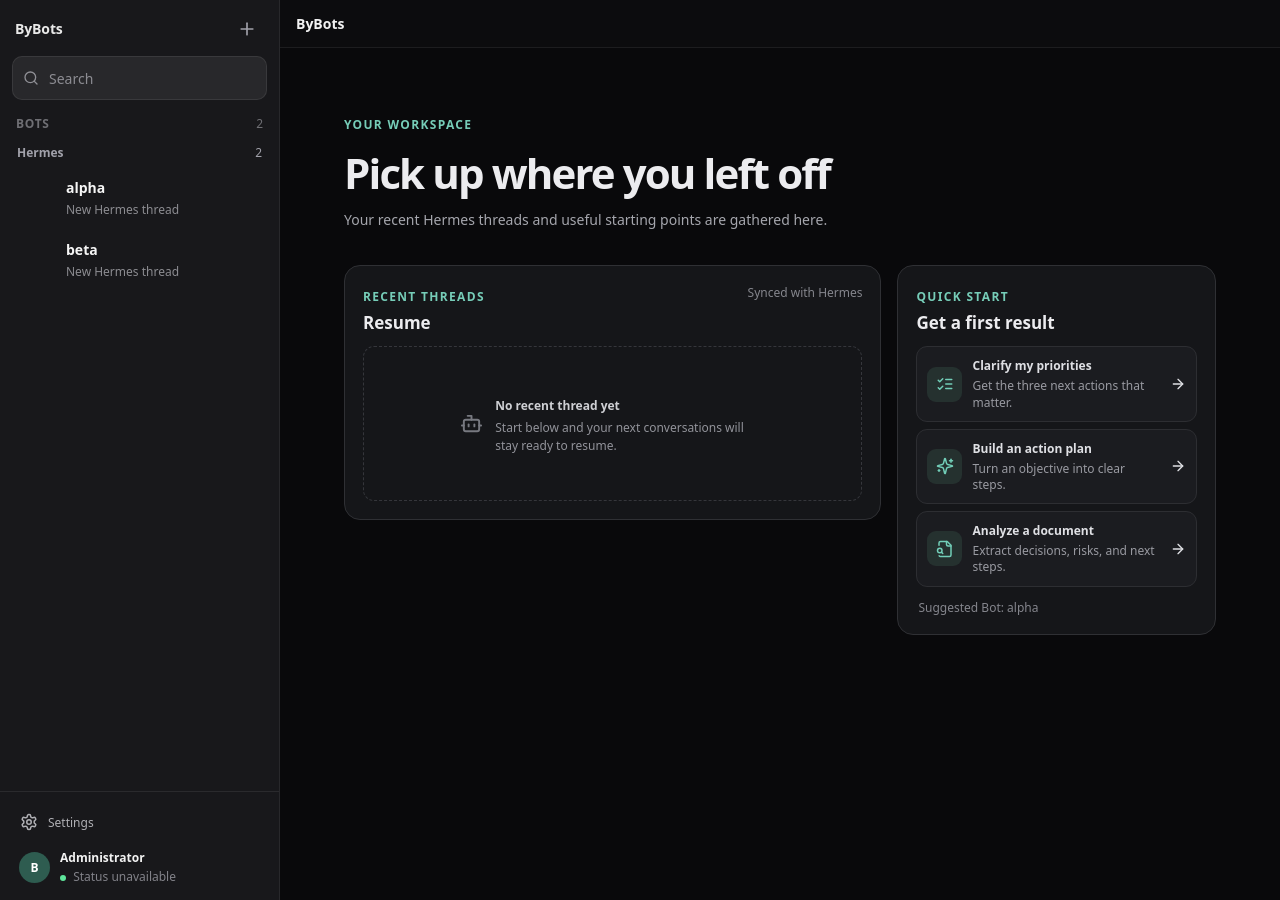
Test: conversation request ownership › keeps the selected bot history when an earlier bot send finishes
Click the button "alpha New Hermes thread": {"x": 140, "y": 198} [8, 167, 271, 229]
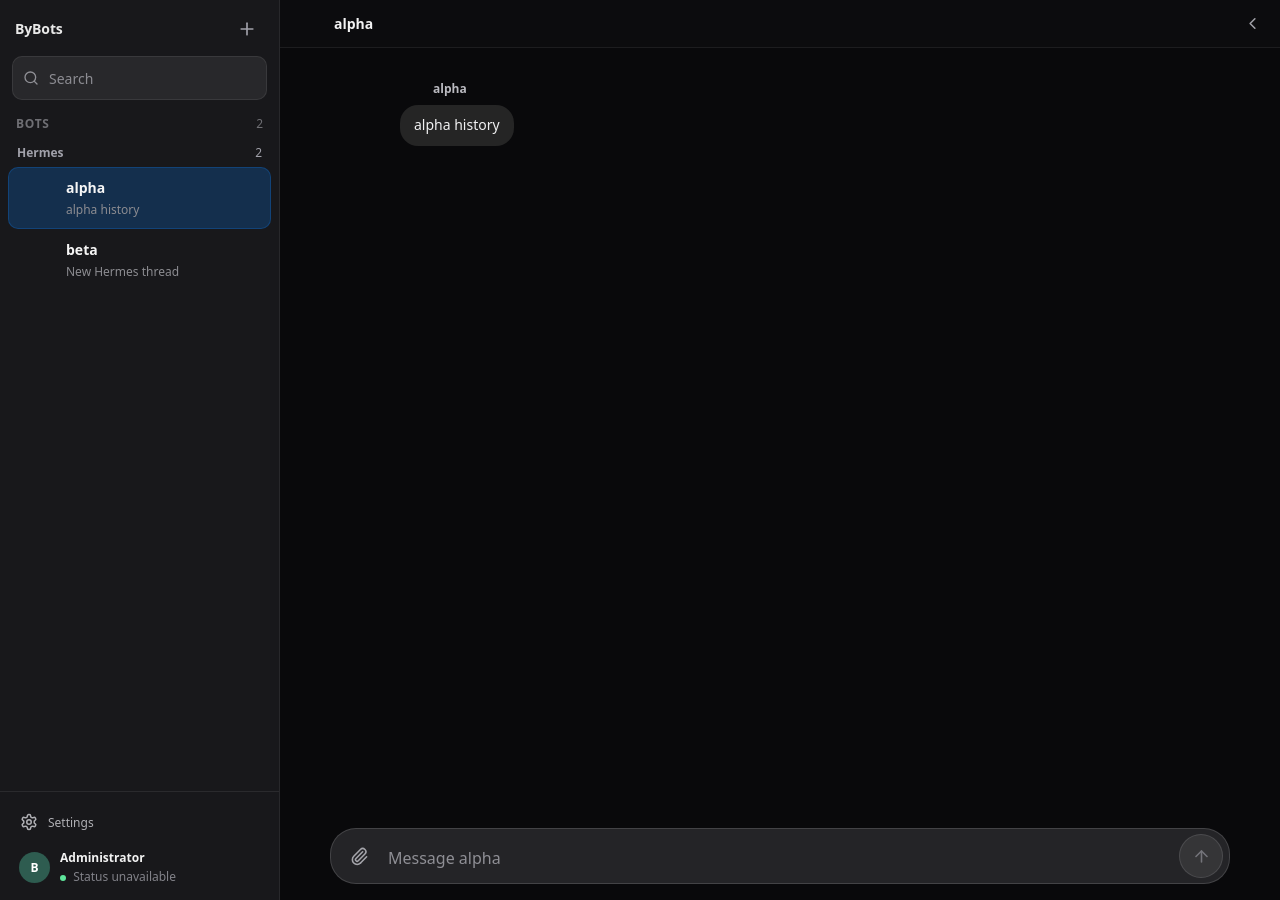
In the text box labelled "Message": {"x": 780, "y": 857} [384, 836, 1176, 878], type "First request"
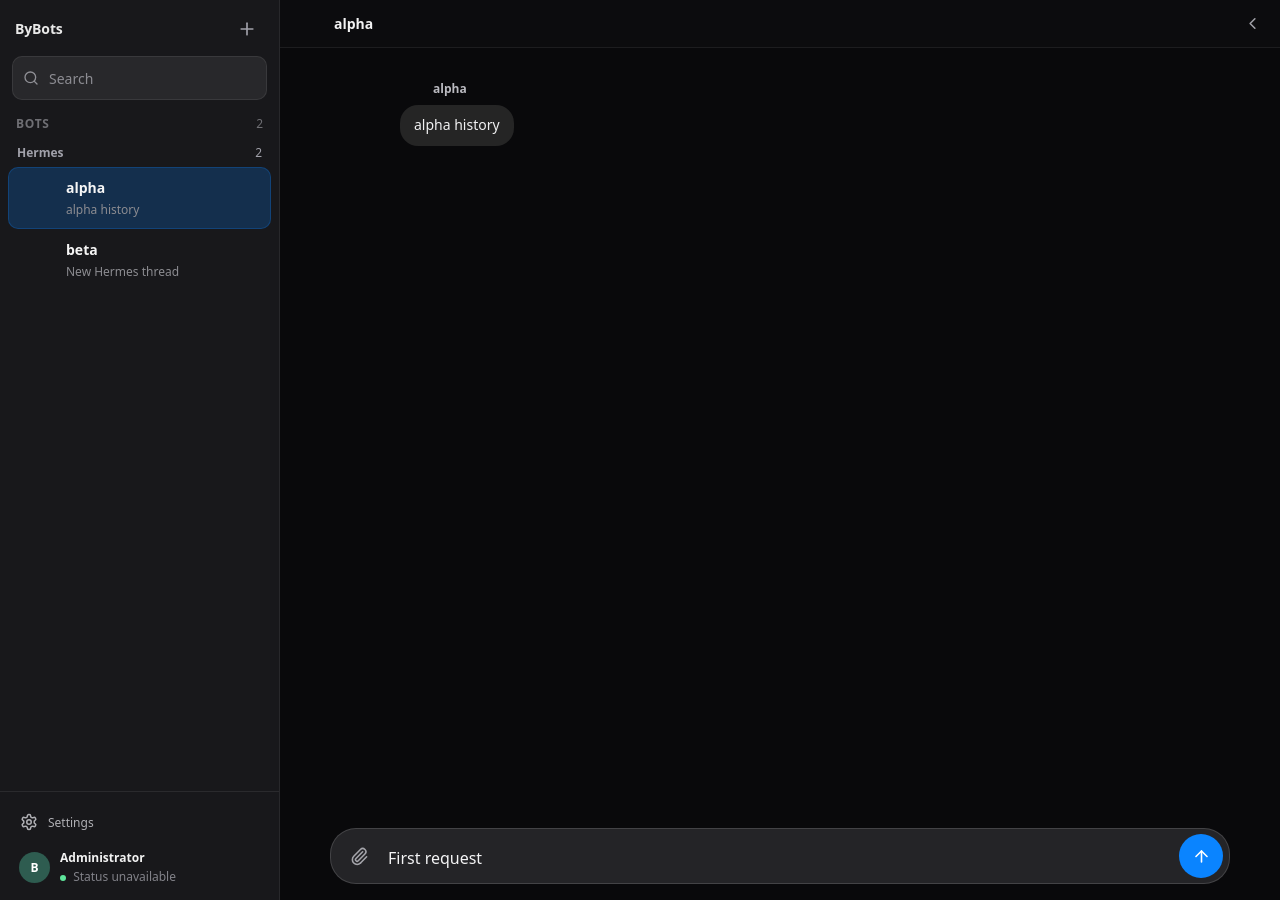
Click the button named "Send": {"x": 1201, "y": 856} [1179, 834, 1223, 878]
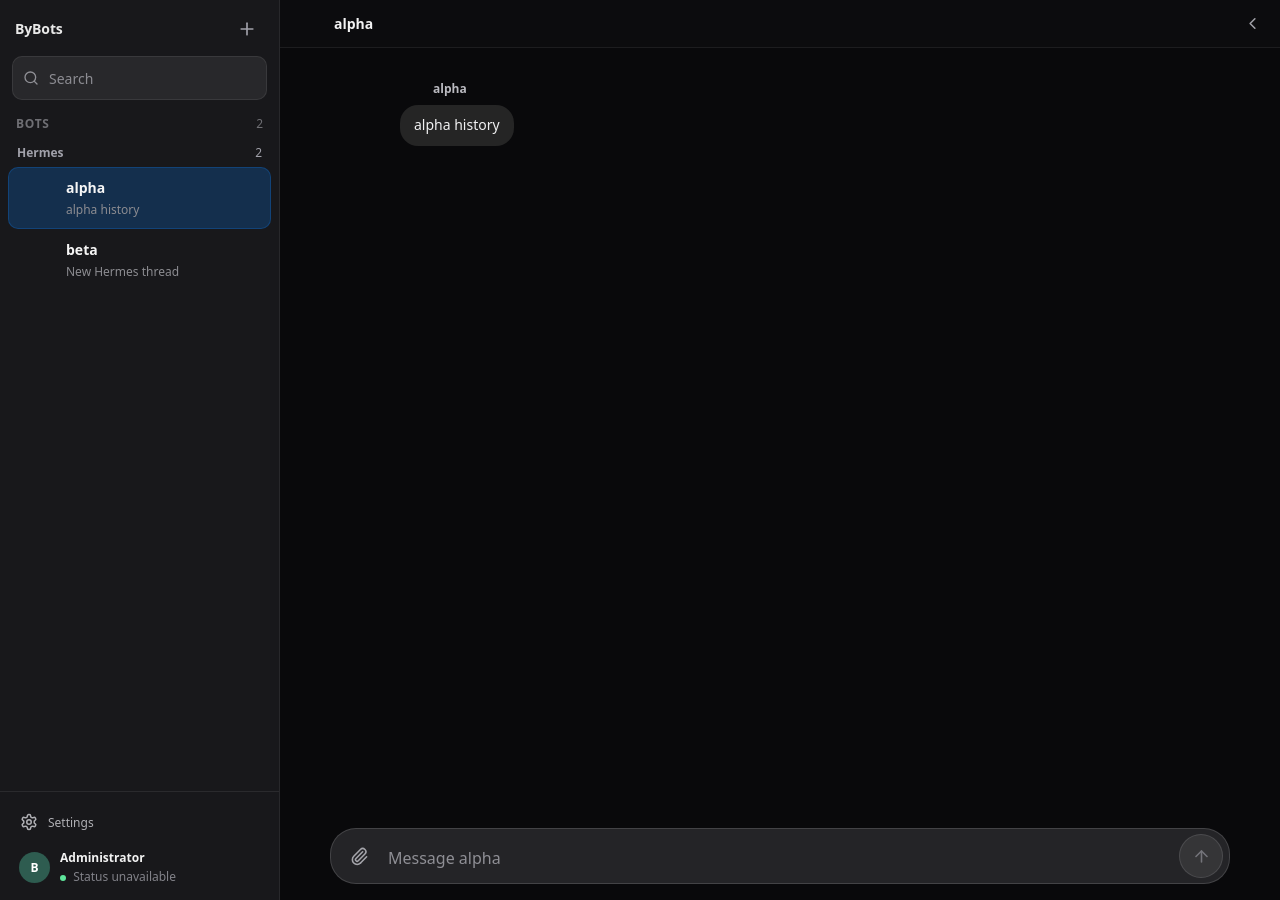
Click the button "beta New Hermes thread": {"x": 140, "y": 260} [8, 229, 271, 291]
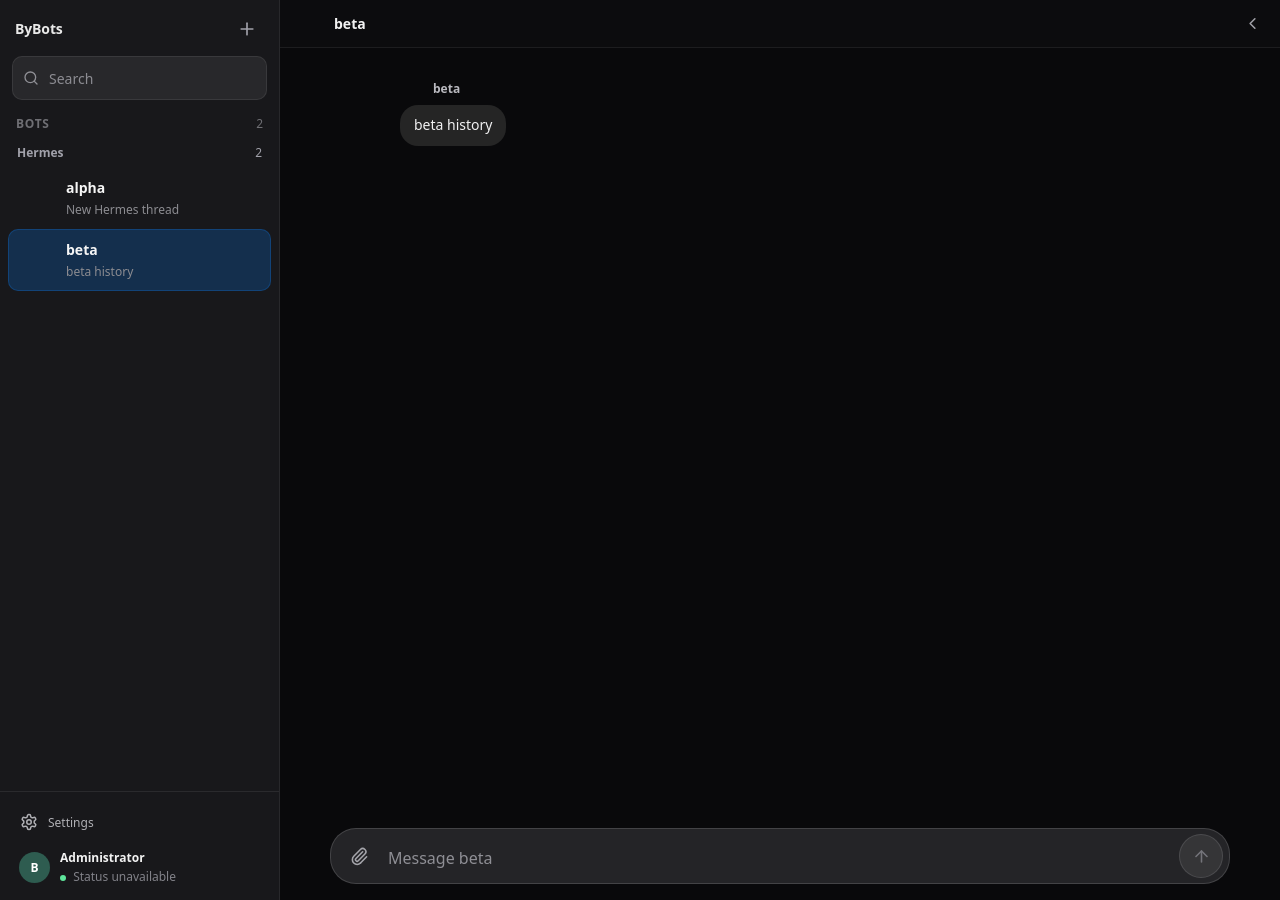
Now the 1st text "beta history" is shown, box [414, 115, 492, 136]
